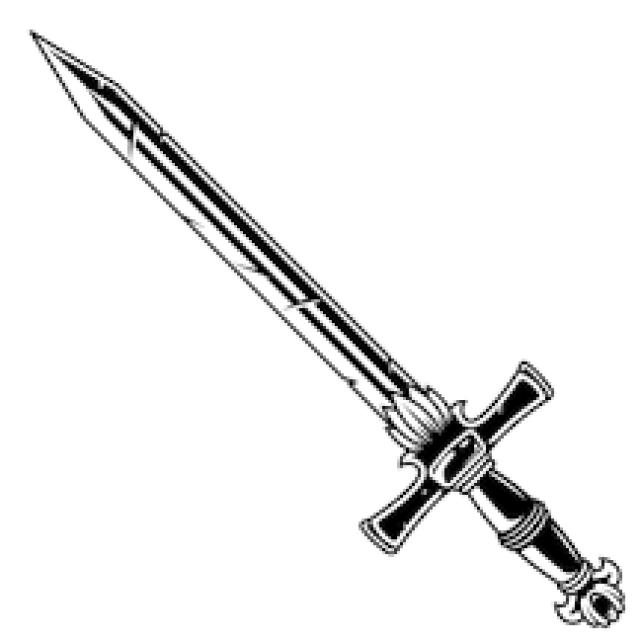Gun: (21, 24, 640, 640)
